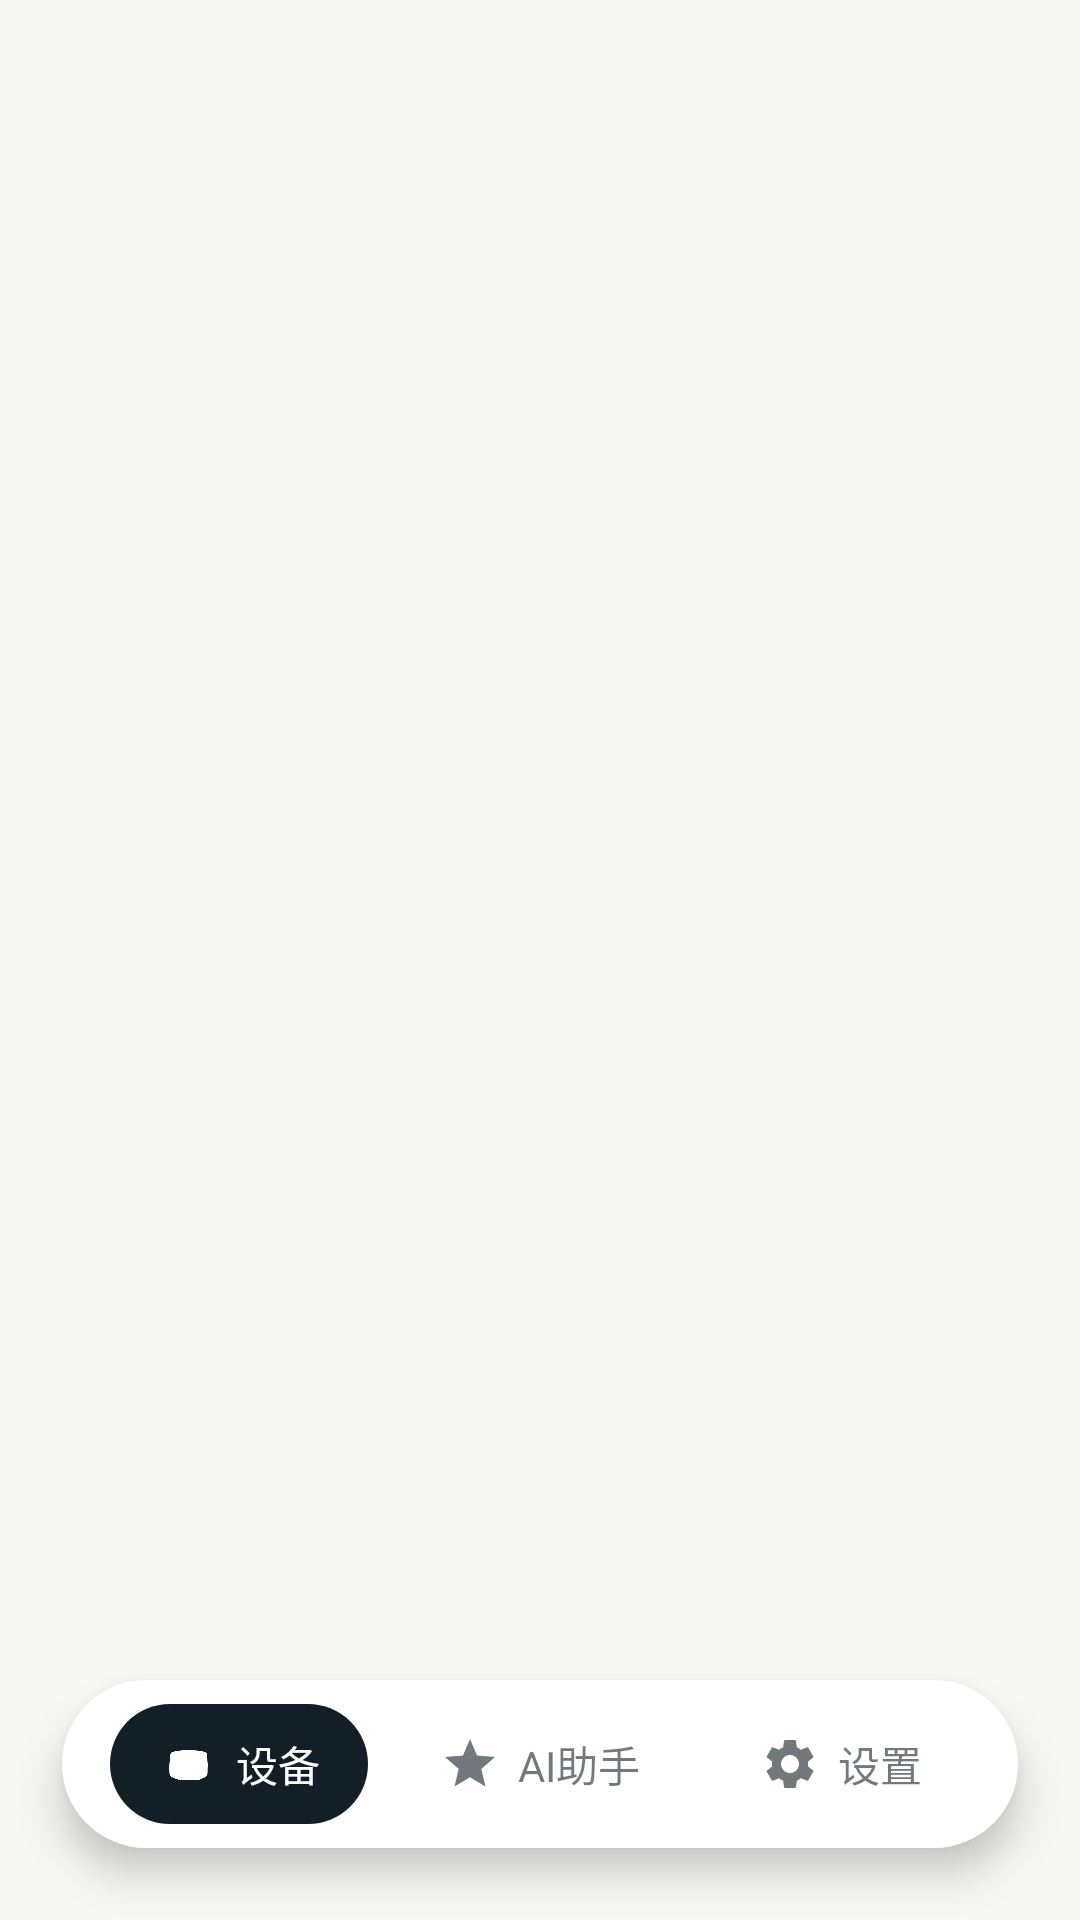

Screen size 1080 × 1920. Icon name, then its box in pixels as box(x1, y1, x2, y2):
ai star: box(445, 1739, 495, 1786)
